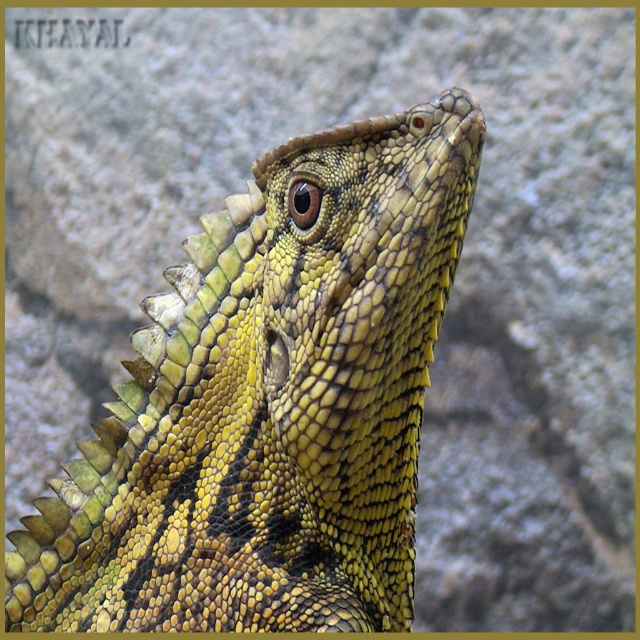Lizard: (8, 90, 485, 628)
